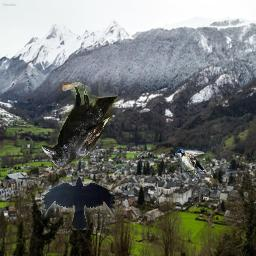Crow: (42, 83, 119, 168), (41, 176, 115, 230)
Swallow: (176, 148, 209, 182)
